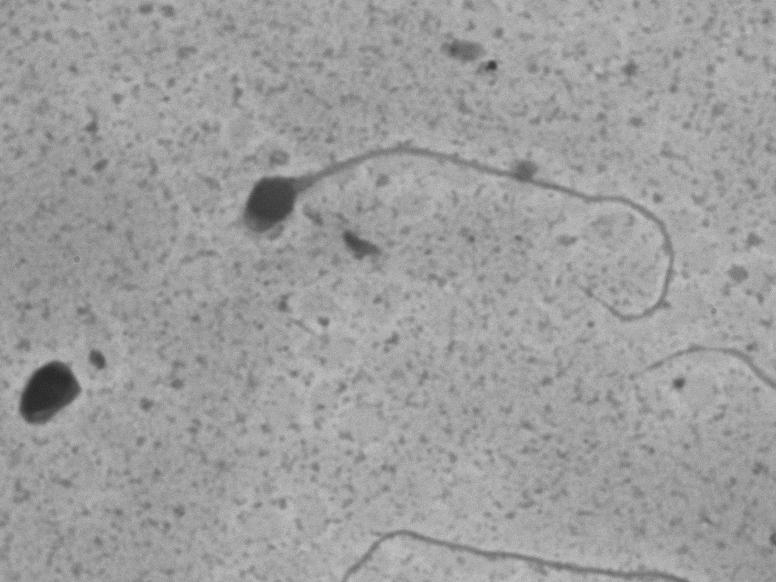Abnormal: (208, 129, 702, 348)
